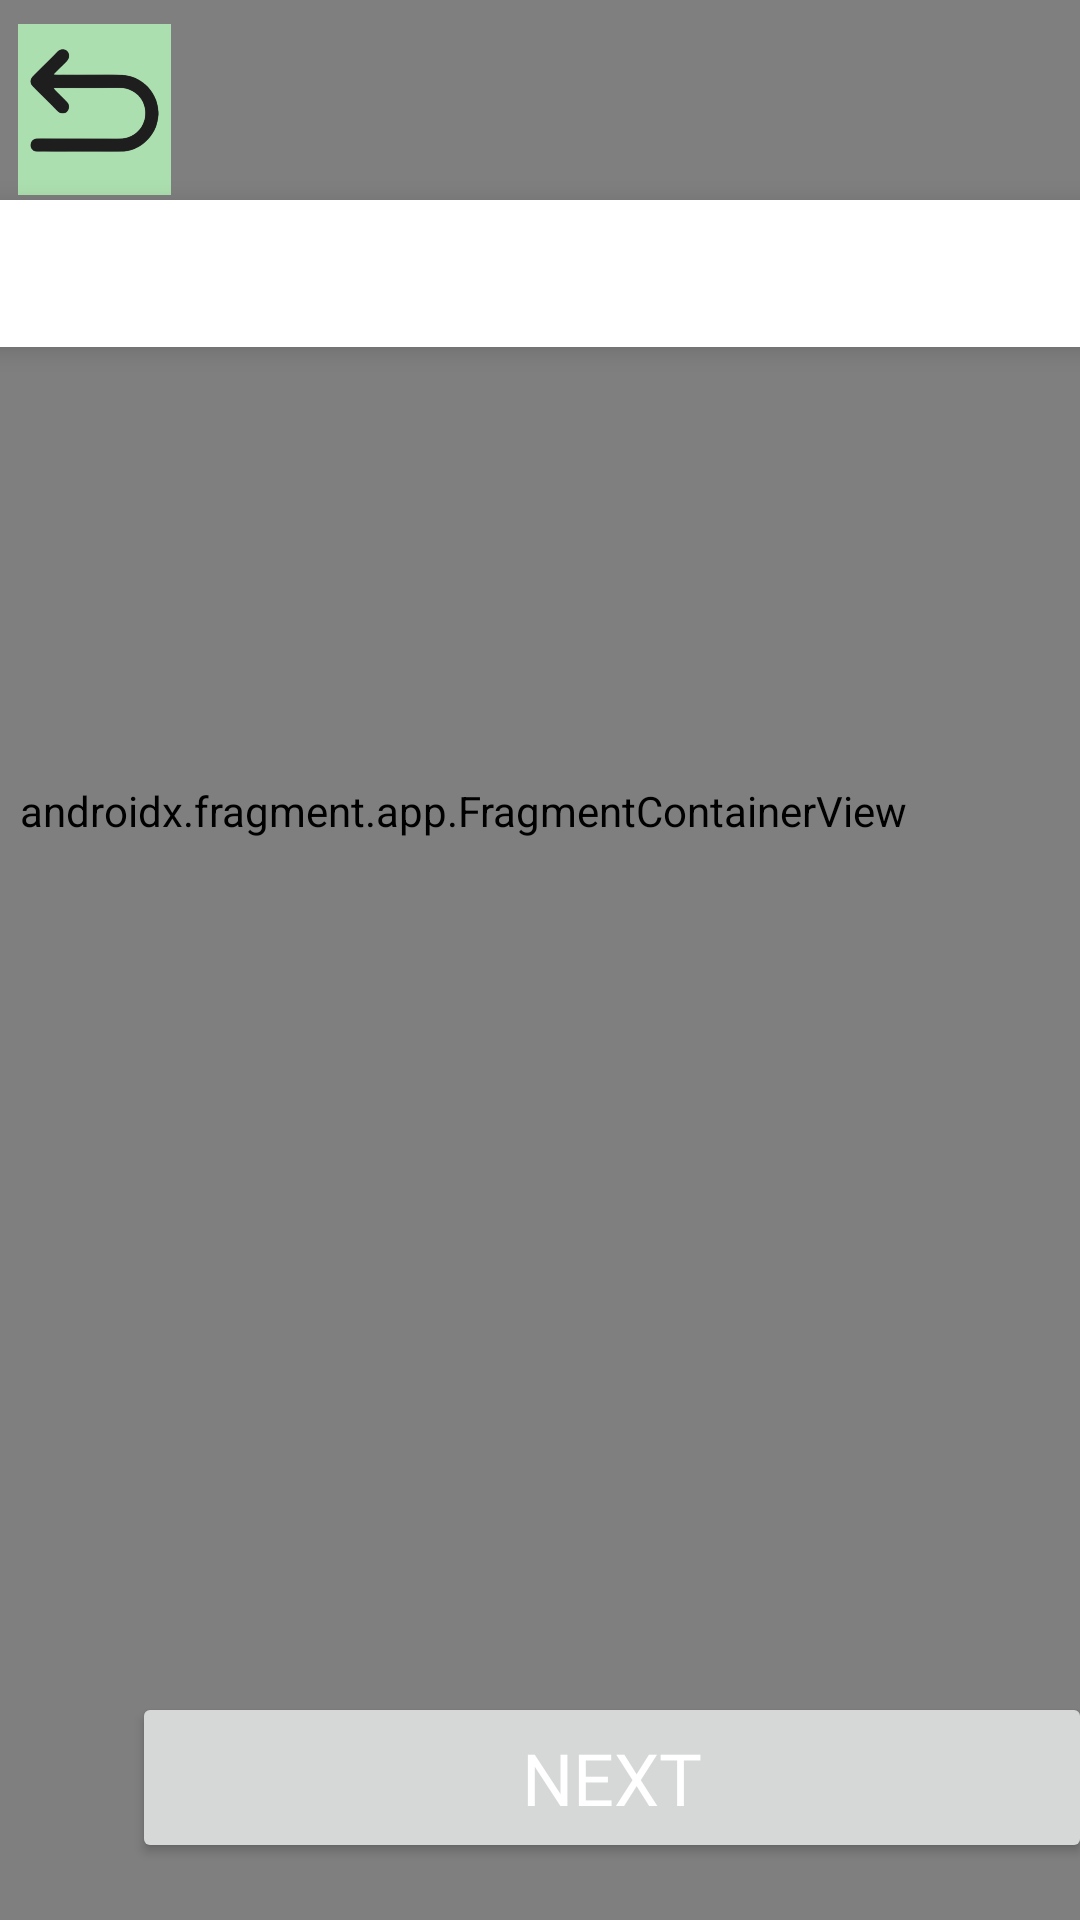

Point at icon controls on the screen. Image size 1080 × 1920, points as [x,y].
back: [94,109]
